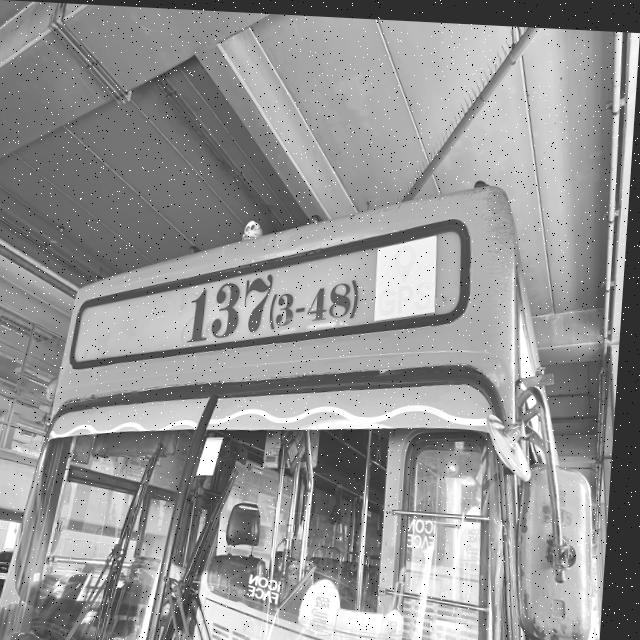BMTA-bus: (14, 178, 610, 640)
Bus Line Number: (184, 244, 373, 345)
